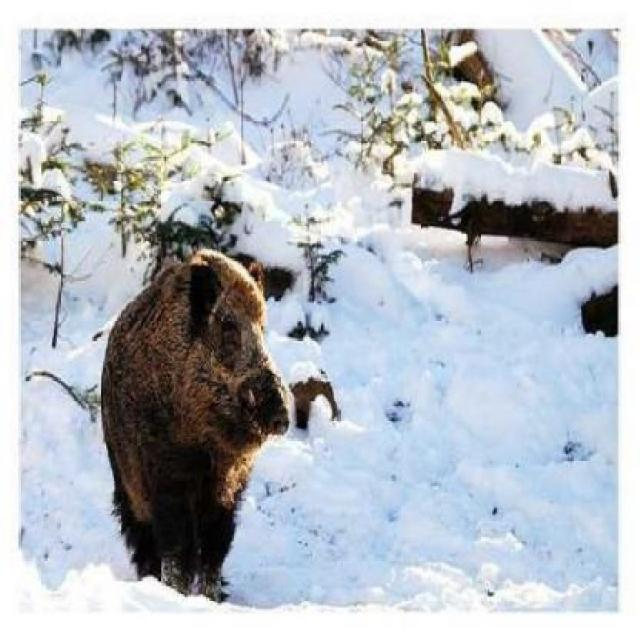WildBoar: (80, 192, 346, 576)
